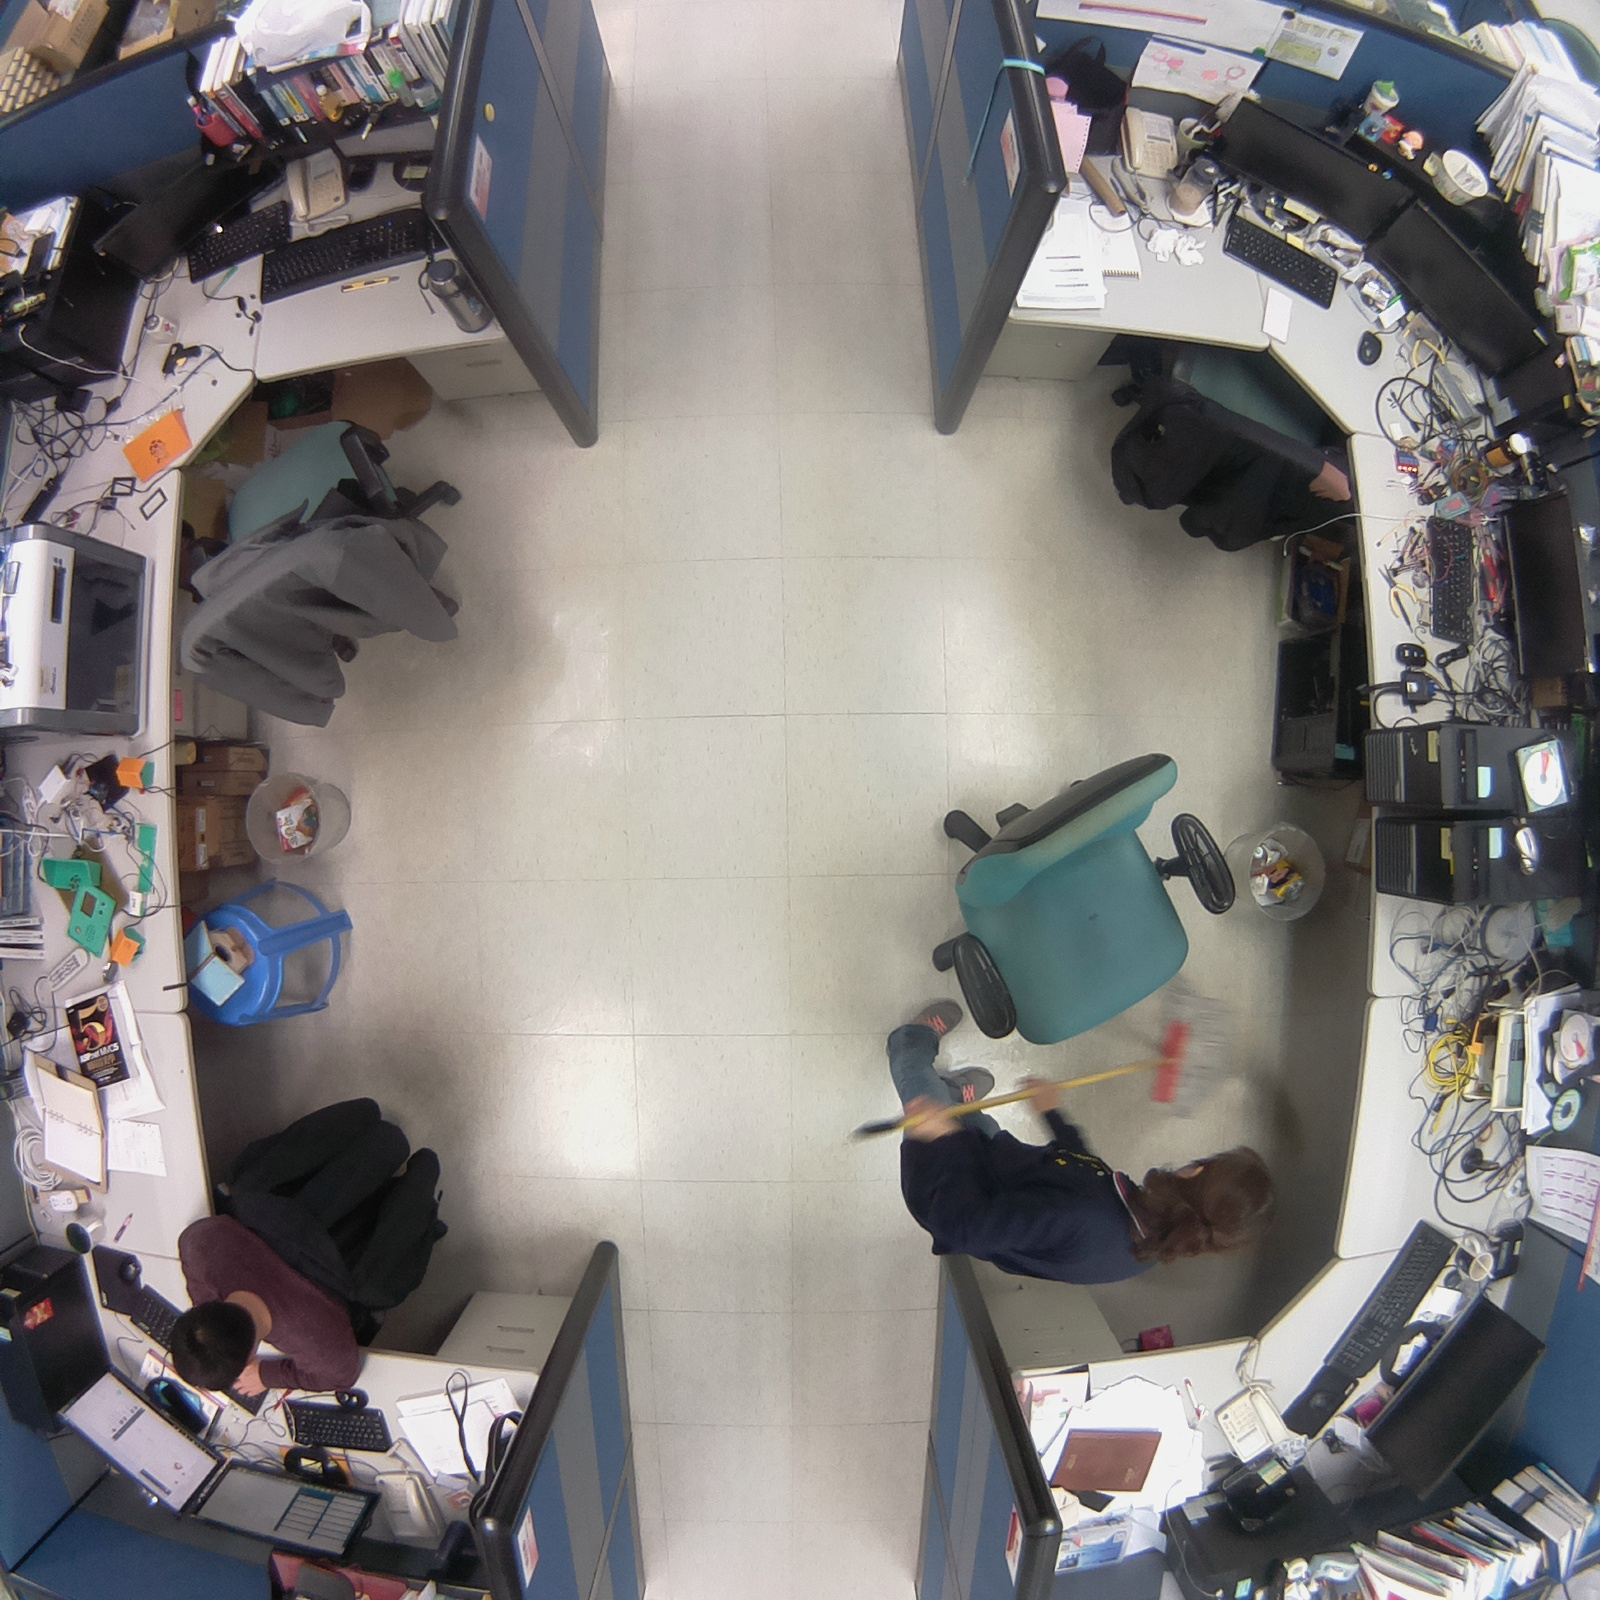chair: (163, 393, 499, 742), (917, 732, 1273, 1055), (1091, 322, 1360, 563)
head: (1138, 1129, 1278, 1289), (159, 1289, 263, 1402)
sitting: (158, 1083, 478, 1406)
standing: (817, 975, 1283, 1304)
